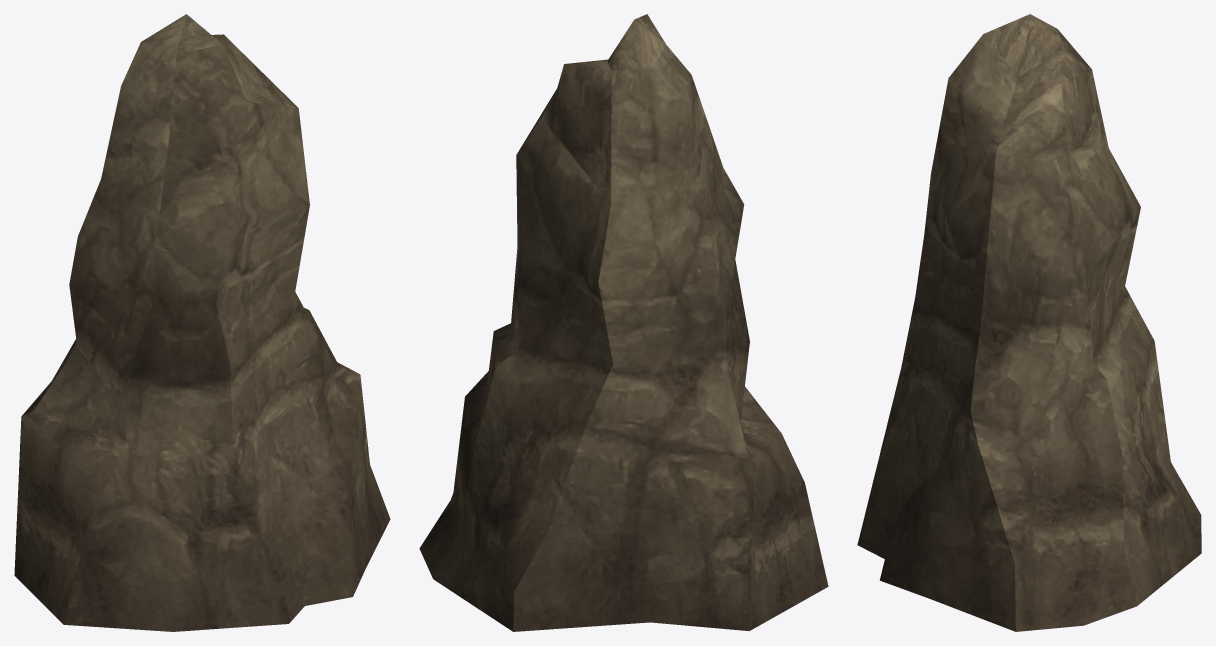
Rendered from Stone01_shandi_002.FBX.
The picture shows the model from 3 angles, left to right: view 1: azimuth 30°, elevation 25°; view 2: azimuth 150°, elevation 25°; view 3: azimuth 270°, elevation 25°; orthographic projection. The views are drawn at different scales.
Parts seen in each view (by area): view 1: Stone01_shandi_002; view 2: Stone01_shandi_002; view 3: Stone01_shandi_002.
Part boxes in pixels (x1,y1,x2,y2): Stone01_shandi_002: (14, 14, 390, 631); Stone01_shandi_002: (419, 14, 828, 631); Stone01_shandi_002: (857, 14, 1201, 631).
Bounding box in the file's own units: 412 × 610 × 362.
